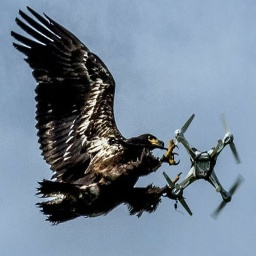Bird: (8, 7, 178, 228)
UAV: (168, 111, 243, 217)
